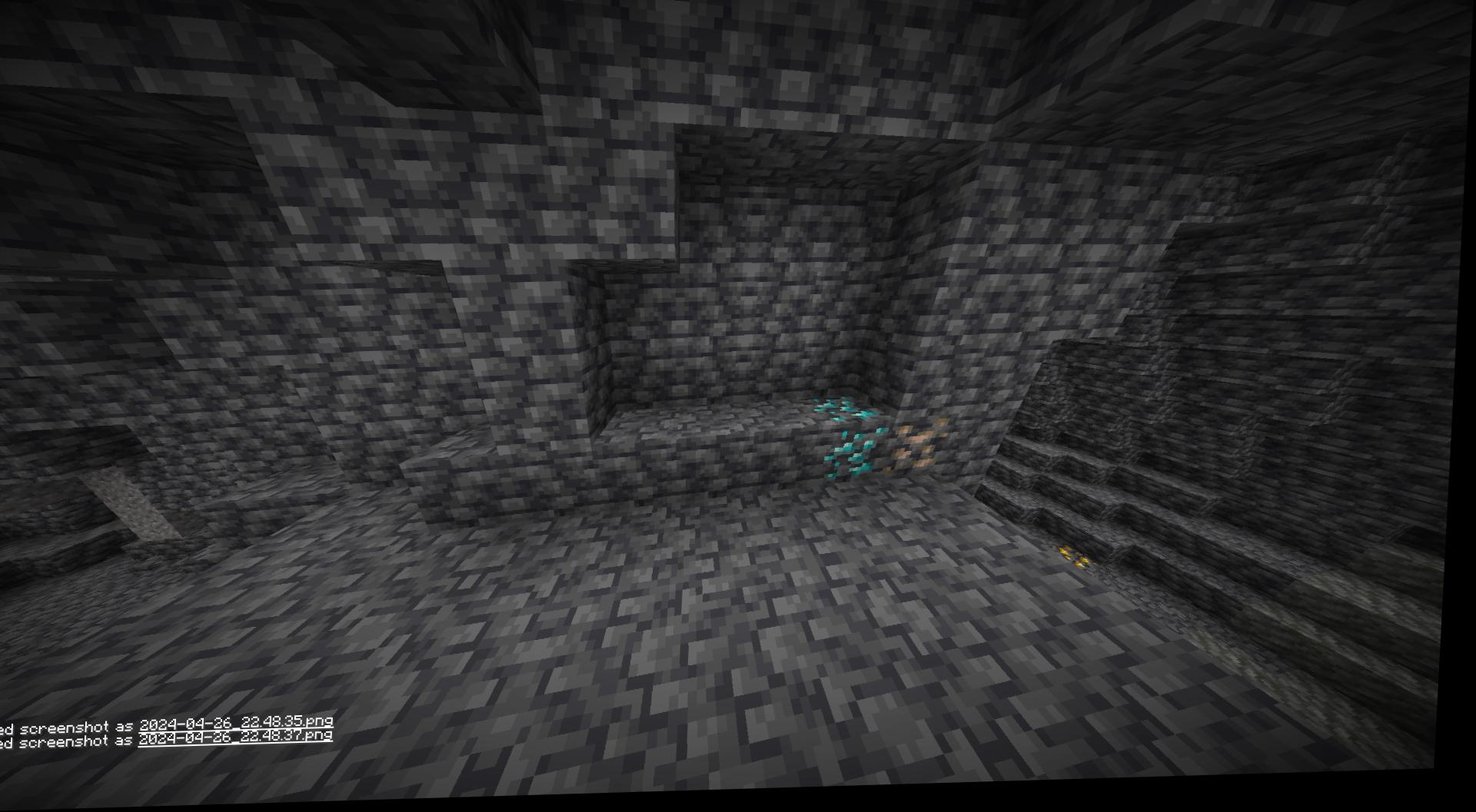diamond ore: (823, 401, 894, 488)
gold ore: (1064, 550, 1104, 577)
iron ore: (891, 425, 955, 479)
